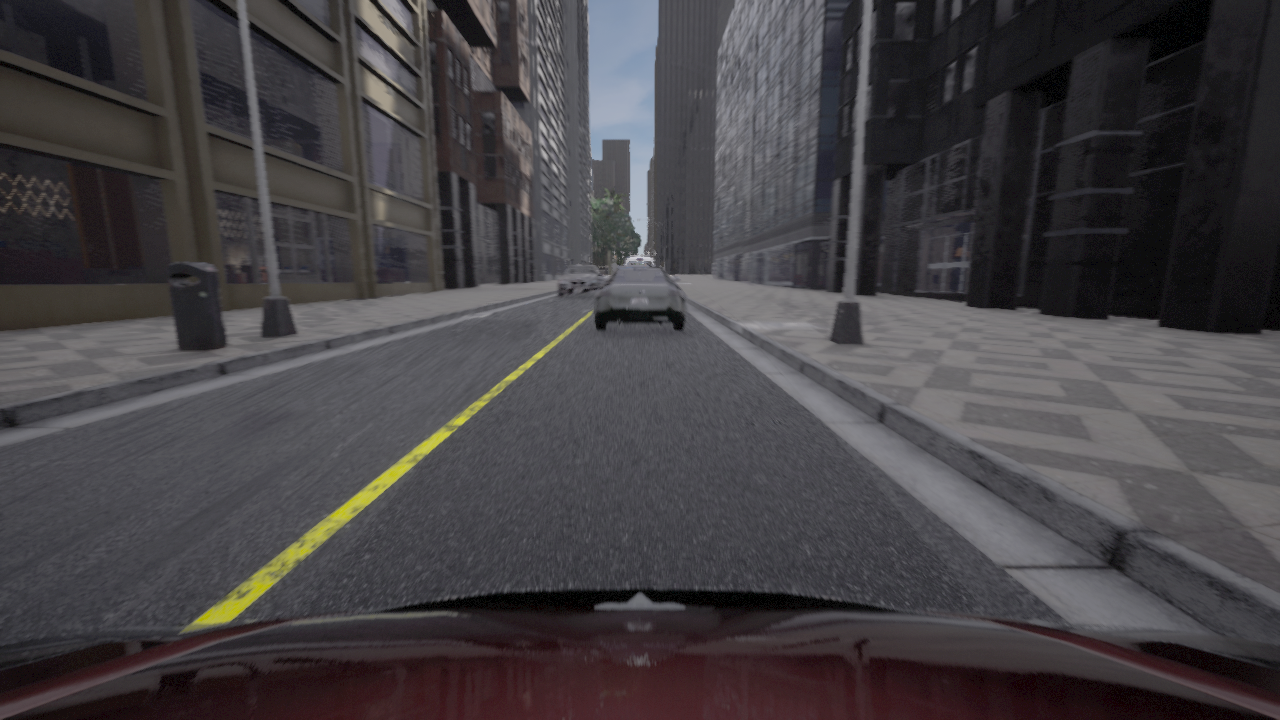cyclist: (0, 588, 1279, 719), (593, 266, 686, 330), (558, 264, 603, 296), (624, 256, 655, 265)
